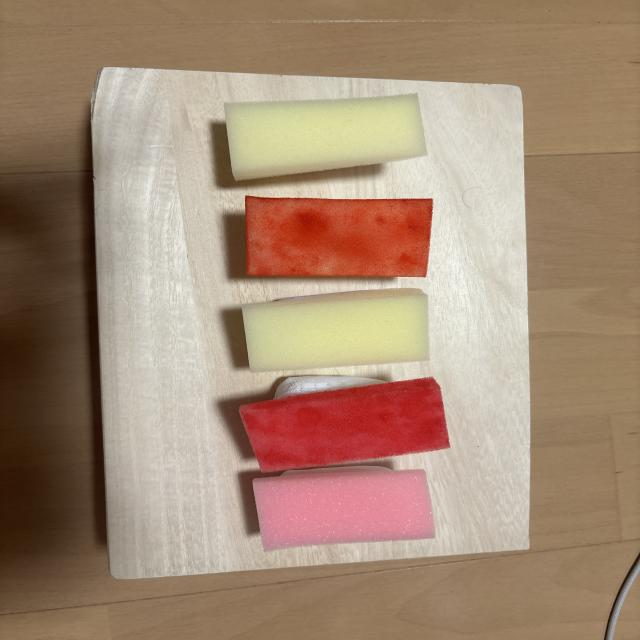NG: (239, 376, 450, 472)
salmon: (246, 196, 433, 277)
tai: (253, 466, 434, 551)
tamago: (225, 94, 426, 181), (243, 288, 428, 371)
